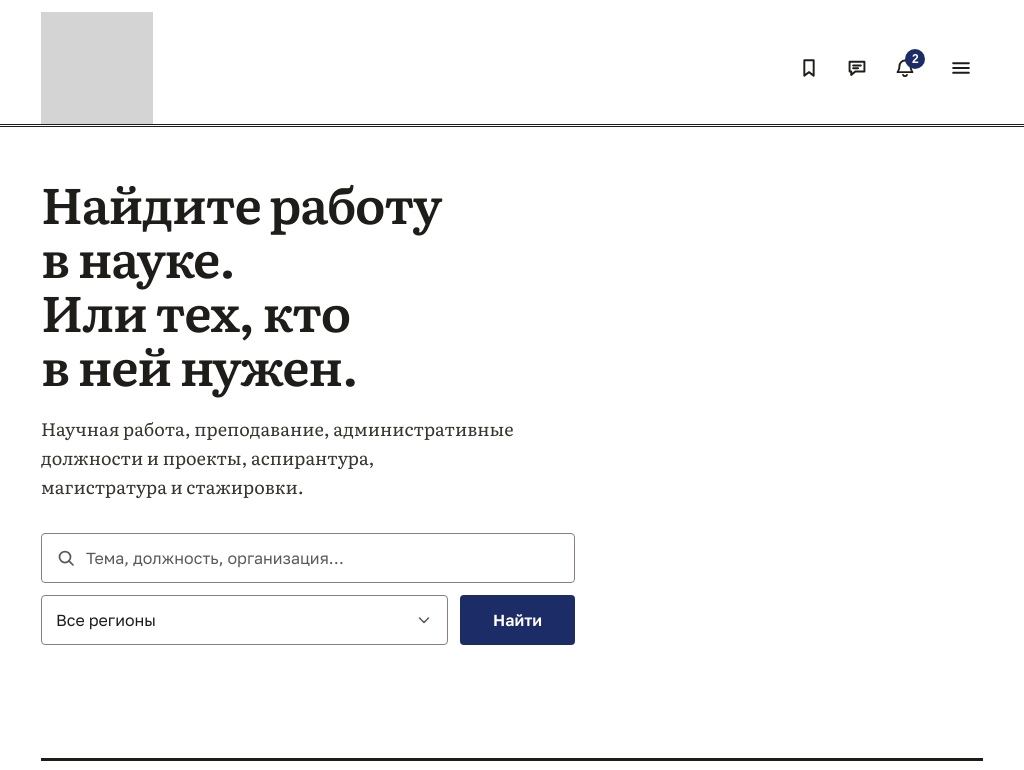
Test: bell in the header › opens a panel with the latest notices, unread first marked, and goes to the page of one
Step 1. Click the button named "непрочитанных" → (905, 68), box [883,46,927,90]
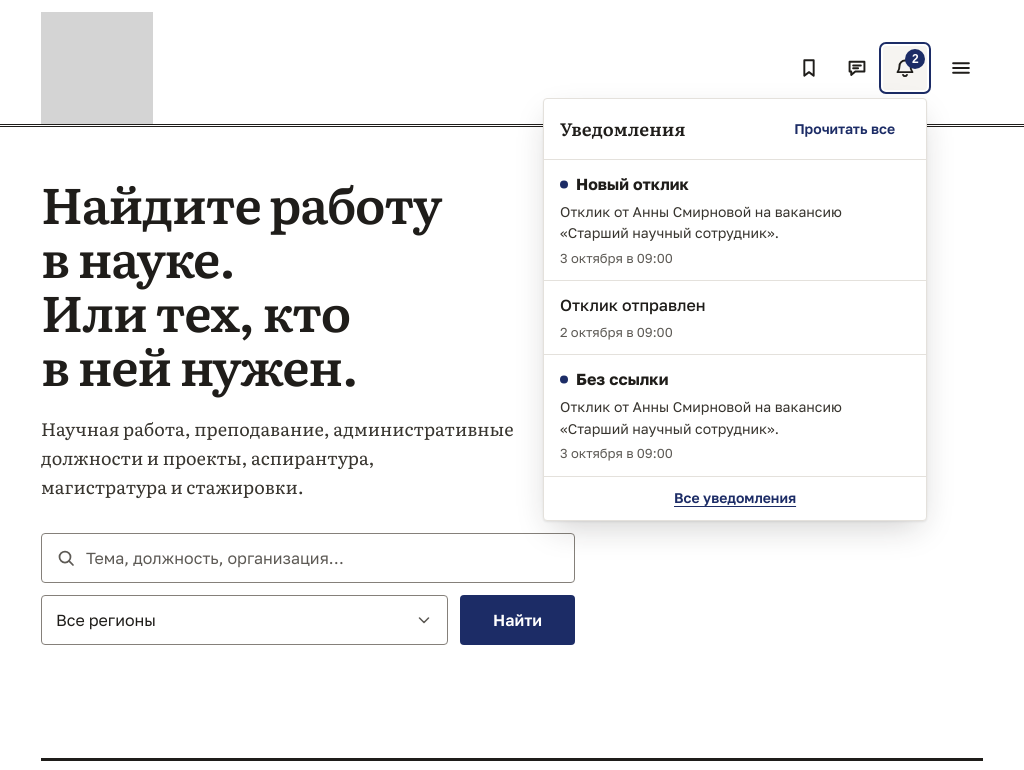
Expected: the element with id "bell-panel" is shown, [543,98,927,521]
Expected: the text "Новый отклик" is shown, [576,172,689,197]
Expected: the text "Отклик от Анны Смирновой на вакансию «Старший научный сотрудник»." is shown 2 times, [560,203,842,242]; [560,398,842,437]
Step 2. Click the button "Новый отклик" → (735, 220), box [544,160,926,280]
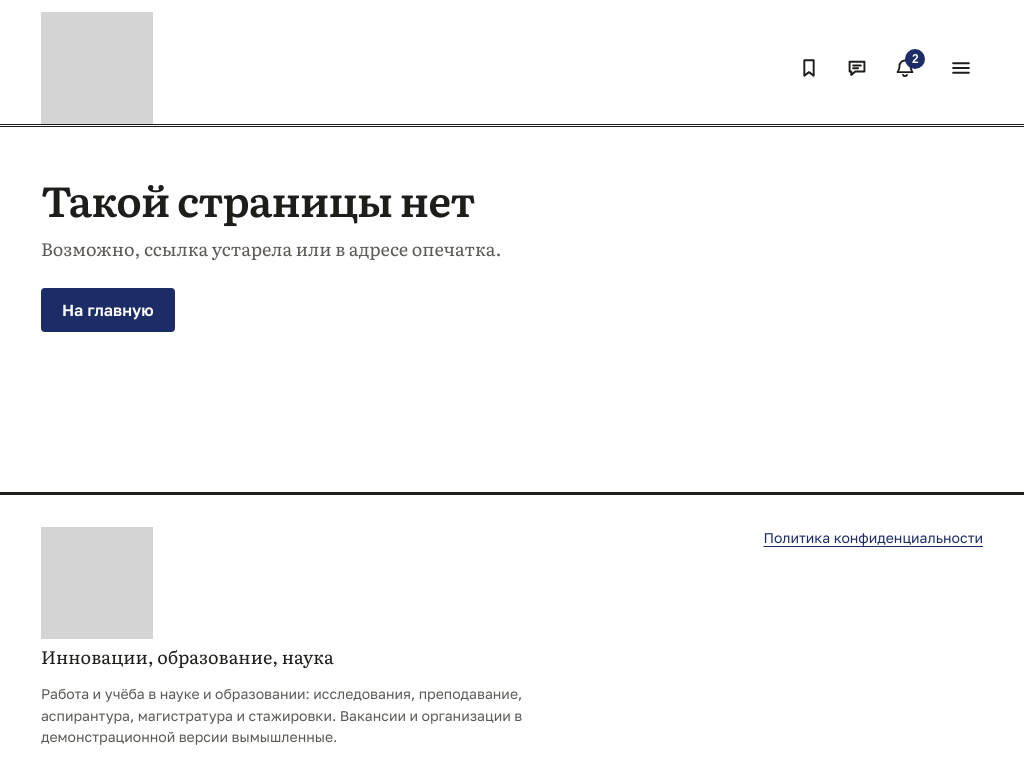
Expected: the element with id "bell-panel" is gone
